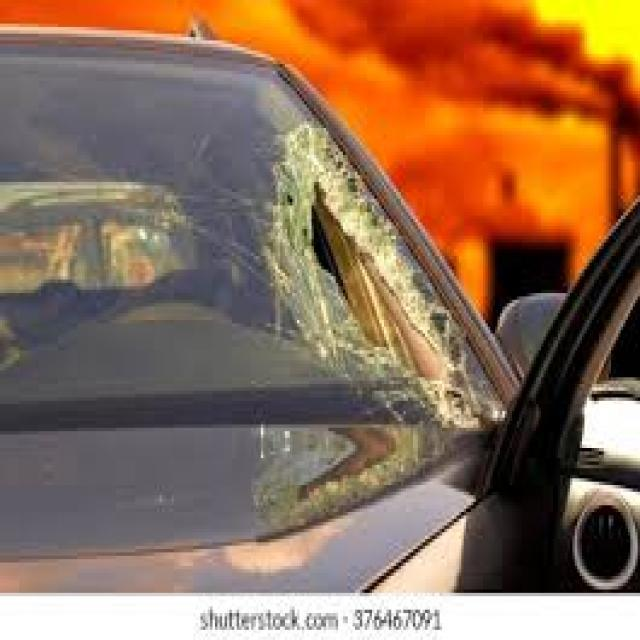damaged-windscreen: (0, 30, 515, 436)
